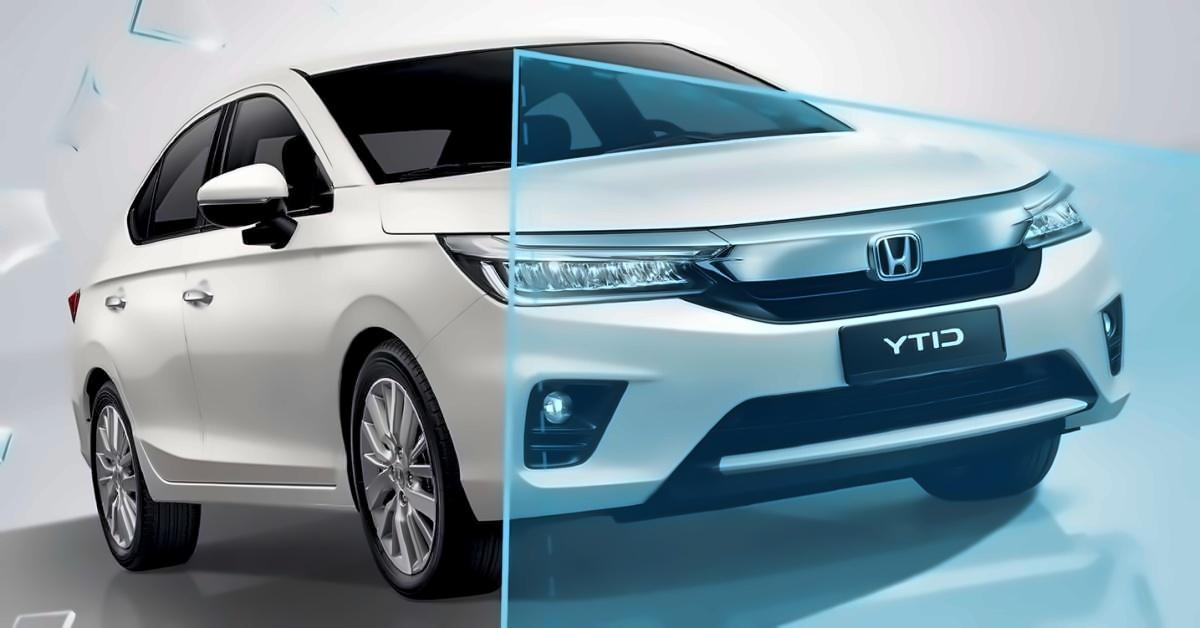Car hood: (374, 122, 1054, 236)
Driver-s door - -F-R-: (186, 70, 354, 496)
Fender - -F-R-: (334, 176, 486, 522)
Fender - -R-R-: (79, 280, 154, 510)
Front bumper: (426, 245, 1148, 529)
Headlight - -L-: (1014, 176, 1101, 256)
Headlight - -R-: (466, 244, 719, 309)
Passenger-s door - -R-R-: (100, 94, 208, 494)
Rear bumper: (48, 366, 99, 465)
Rear light - -R-: (54, 260, 92, 318)
Side bumper - -R-: (128, 472, 366, 524)
Side mirror - -R-: (190, 152, 314, 256)
